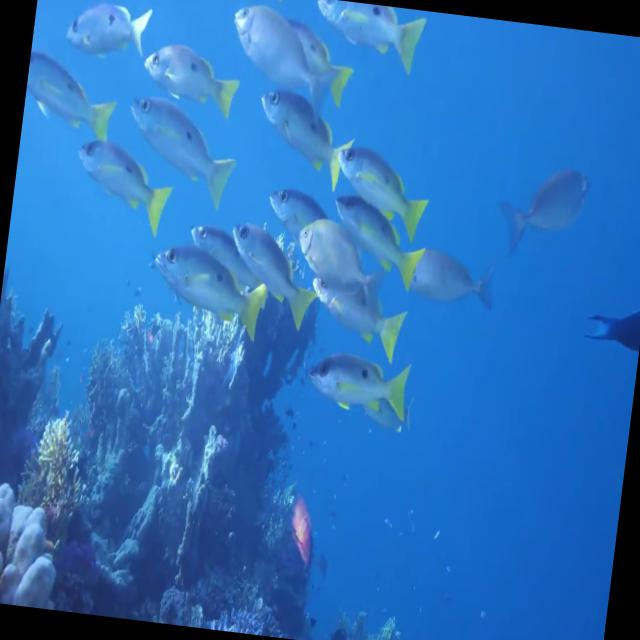fish: (118, 85, 251, 217), (138, 220, 278, 344), (244, 61, 360, 200), (218, 0, 337, 124), (494, 145, 602, 273), (20, 36, 128, 156), (272, 1, 376, 116), (222, 207, 326, 318), (291, 336, 425, 422), (73, 120, 178, 228), (296, 264, 408, 364), (284, 207, 397, 306), (402, 217, 506, 323), (331, 130, 434, 236), (134, 25, 251, 104), (185, 186, 272, 284), (62, 0, 174, 68), (309, 0, 433, 52), (580, 278, 640, 369)
